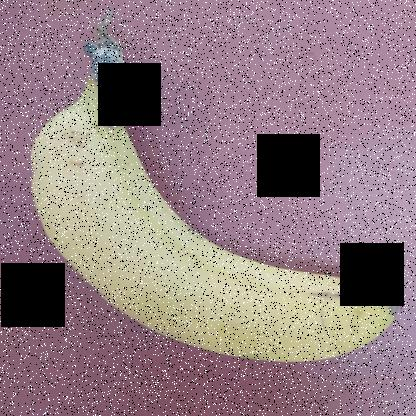freshripe: (21, 101, 415, 389)
